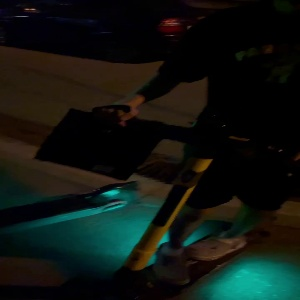human on a scooter: (33, 1, 300, 300)
